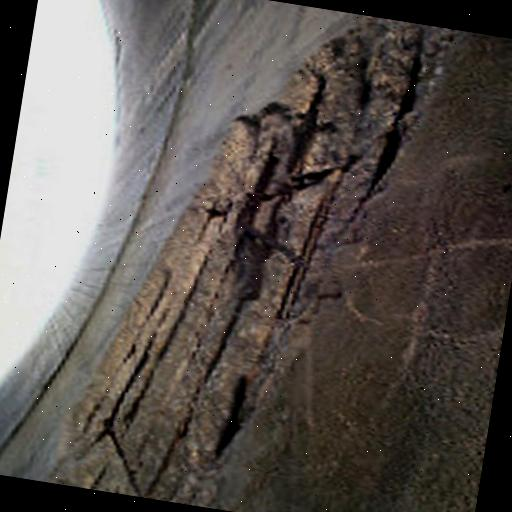spalling: (45, 14, 457, 503)
